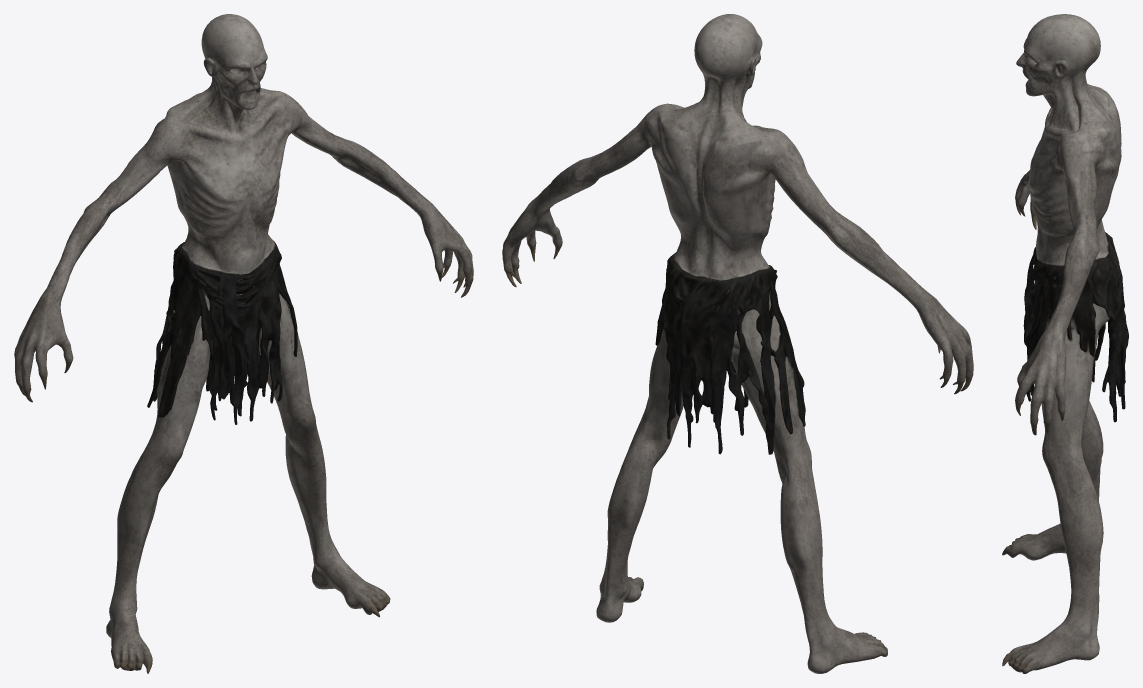
Rendered from monstre_tpose.glb.
The picture shows the model from 3 angles, left to right: view 1: azimuth 30°, elevation 25°; view 2: azimuth 150°, elevation 25°; view 3: azimuth 270°, elevation 25°; orthographic projection. The views are drawn at different scales.
Visible parts, largest first — view 1: world; view 2: world; view 3: world.
Part boxes in pixels (x1,y1,x2,y2): world: (14, 14, 473, 673); world: (502, 14, 973, 673); world: (1002, 14, 1128, 673).
Size of the model in its own units: 0.7801 by 1 by 0.1937.
1 material, 1 textured.
